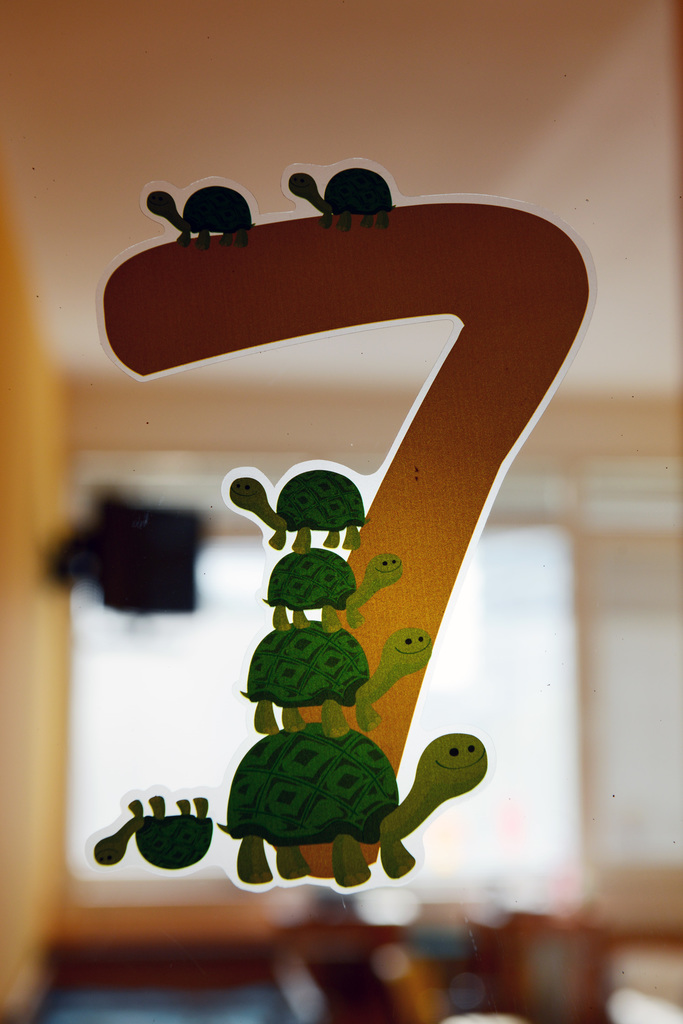Sea turtles: (211, 717, 489, 887), (239, 617, 435, 740), (260, 544, 410, 632), (230, 465, 368, 553), (87, 790, 216, 869), (288, 159, 400, 231), (144, 184, 255, 250)
